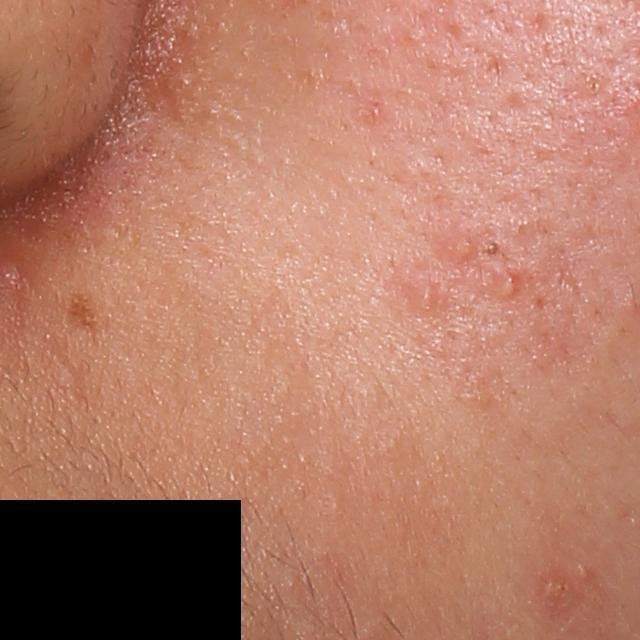comedo: (480, 239, 505, 260)
nevus: (66, 287, 100, 329)
papule: (413, 281, 442, 317)
pustule: (495, 271, 527, 300)
